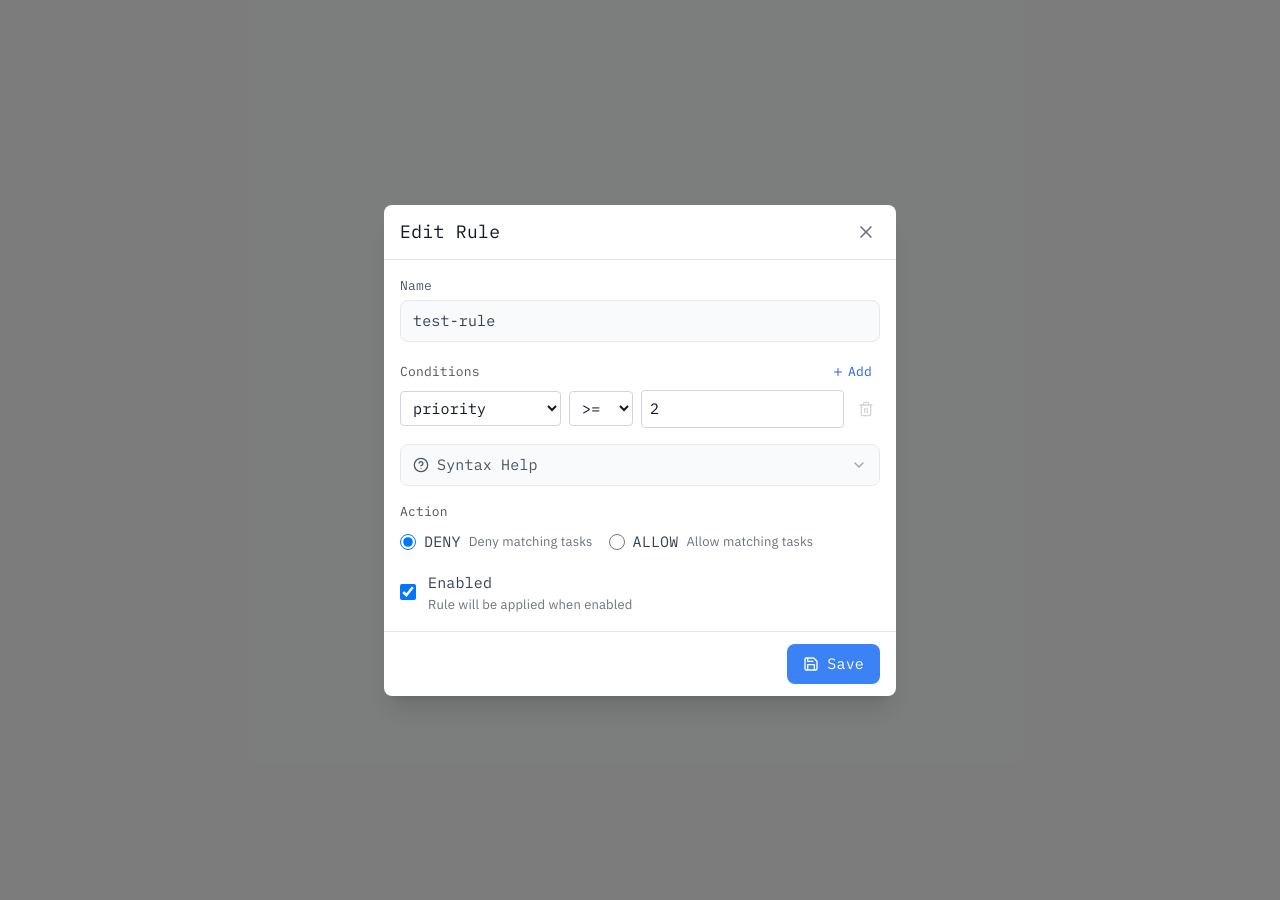
Test case: EditRuleModal › DENY/ALLOW radio button selection › switches from DENY to ALLOW when clicking ALLOW
Click the radio button labelled "ALLOW Allow matching tasks". click: click(617, 542)
box: [609,534,625,550]
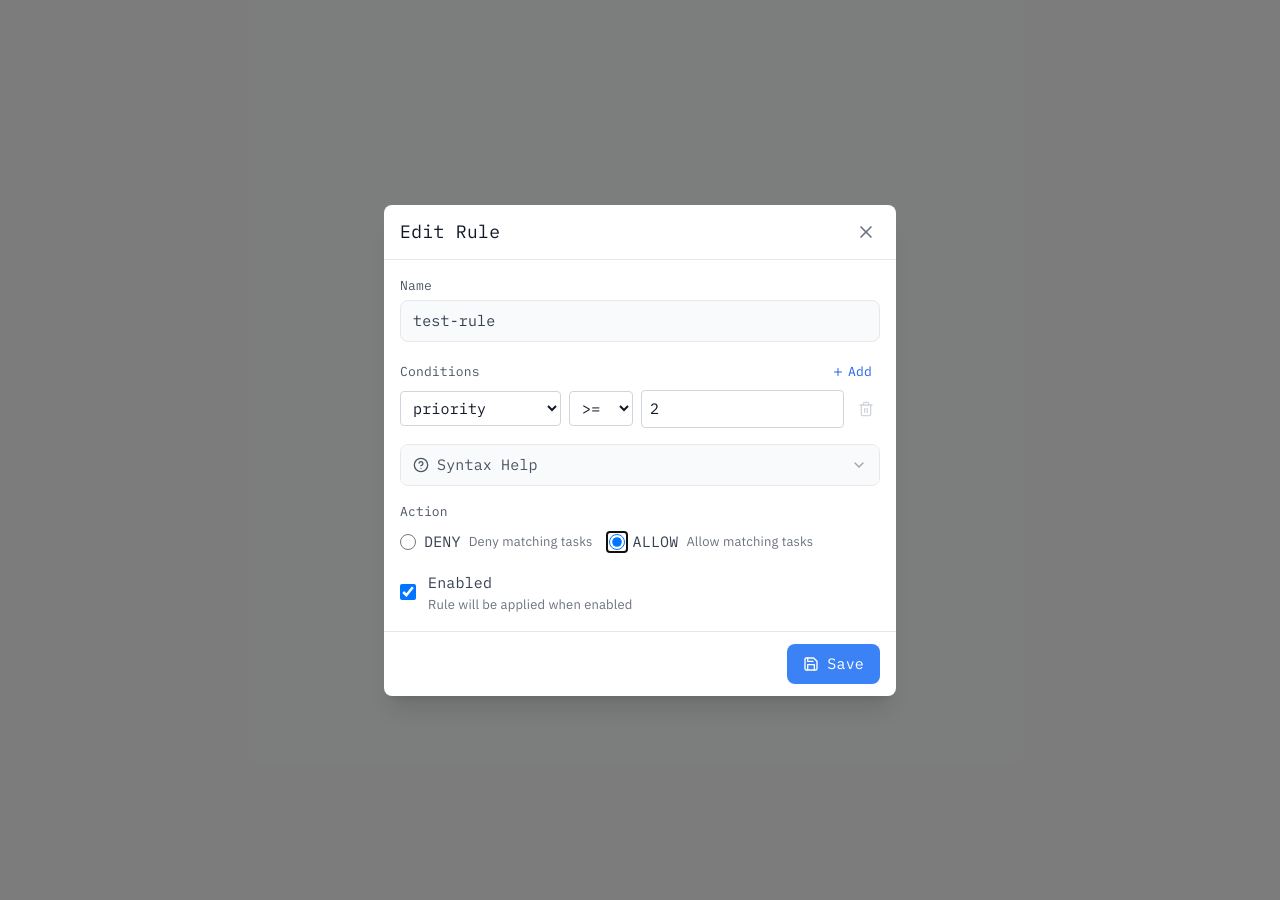
Expected: the radio button labelled "ALLOW Allow matching tasks" is checked, [609,534,625,550]
Expected: the radio button labelled "DENY Deny matching tasks" is not checked, [400,534,416,550]
